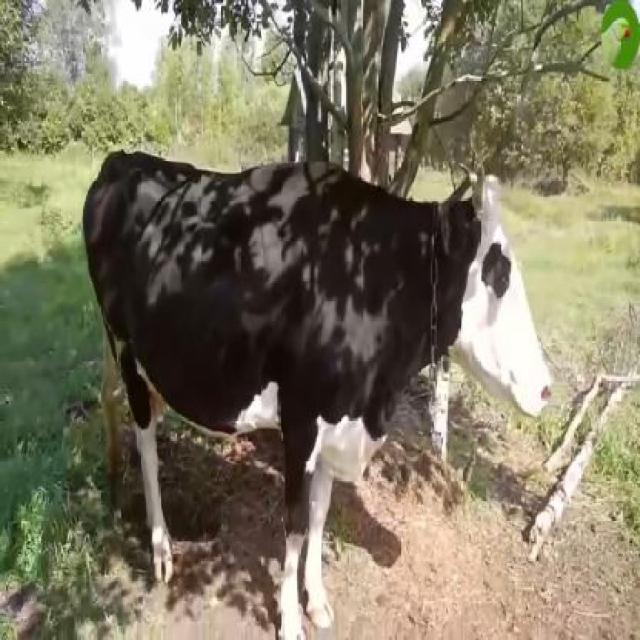Cow: (83, 150, 554, 638)
